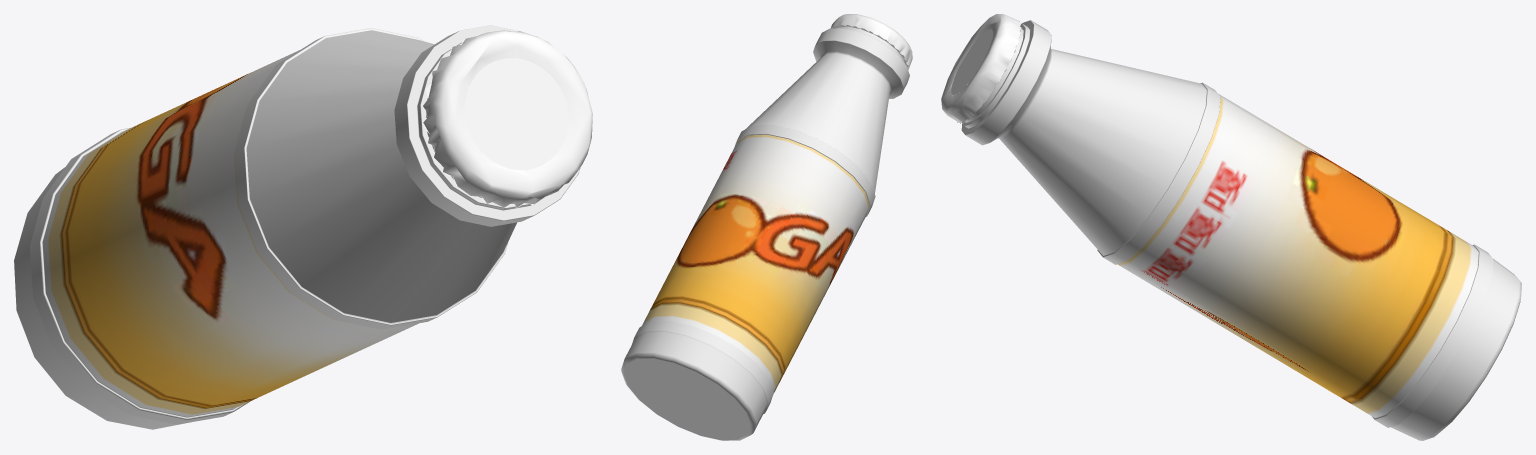
The model's file is ref_wahahamilk.glb.
The picture shows the model from 3 angles, left to right: view 1: azimuth 30°, elevation 25°; view 2: azimuth 150°, elevation 25°; view 3: azimuth 270°, elevation 25°; orthographic projection. The views are drawn at different scales.
Parts seen in each view (by area): view 1: ref_wahahamilk_part2, ref_wahahamilk_part0, ref_wahahamilk_part1; view 2: ref_wahahamilk_part0, ref_wahahamilk_part2, ref_wahahamilk_part1; view 3: ref_wahahamilk_part0, ref_wahahamilk_part2, ref_wahahamilk_part1.
Part boxes in pixels (bbox=[...]): ref_wahahamilk_part2: bbox=[14, 25, 580, 429]; ref_wahahamilk_part0: bbox=[43, 50, 418, 416]; ref_wahahamilk_part1: bbox=[423, 30, 592, 207]; ref_wahahamilk_part0: bbox=[642, 134, 869, 392]; ref_wahahamilk_part2: bbox=[621, 26, 909, 440]; ref_wahahamilk_part1: bbox=[830, 14, 912, 69]; ref_wahahamilk_part0: bbox=[1118, 94, 1478, 417]; ref_wahahamilk_part2: bbox=[955, 20, 1521, 440]; ref_wahahamilk_part1: bbox=[941, 14, 1021, 123].
Size of the model in its own units: 0.3487 by 0.7804 by 1.
Materials: 3 (1 with a texture image).
